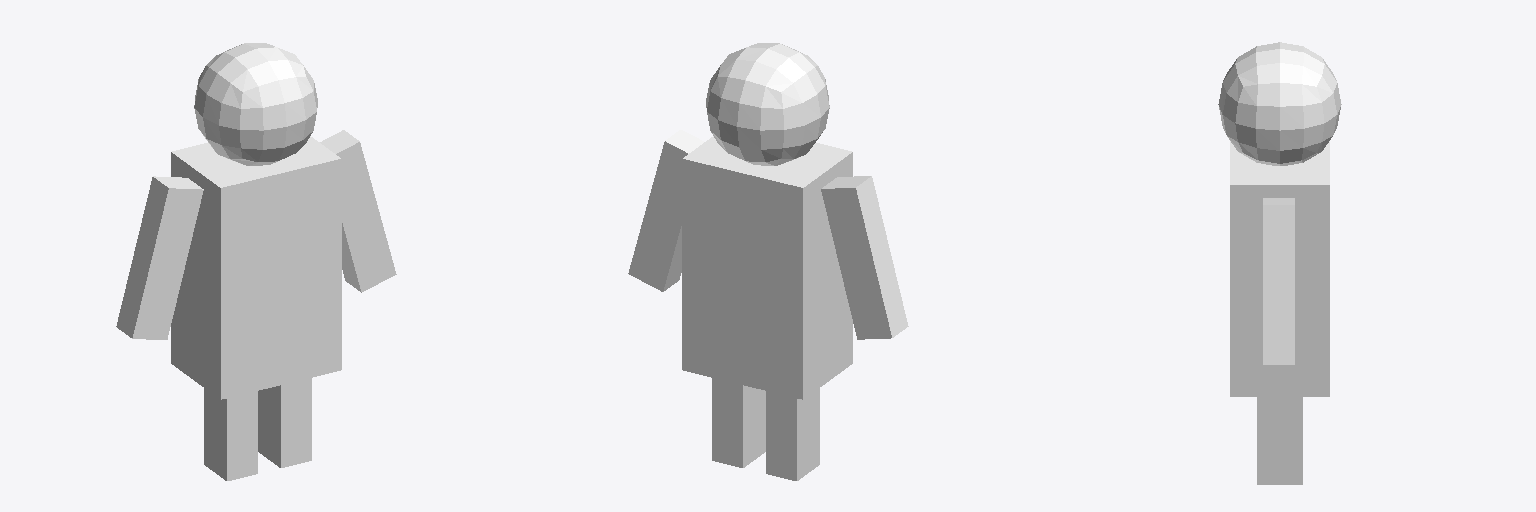
The picture shows the model from 3 angles: view 1: azimuth 30°, elevation 25°; view 2: azimuth 150°, elevation 25°; view 3: azimuth 270°, elevation 25°; orthographic projection.
Parts seen in each view (by area): view 1: Cube; view 2: Cube; view 3: Cube.
Part boxes in pixels (x1,y1,x2,y2): Cube: (116, 43, 396, 480); Cube: (628, 43, 908, 480); Cube: (1218, 42, 1341, 484).
Size of the model in its own units: 1.12 by 1.67 by 0.4506.
1 materials, 1 textured.